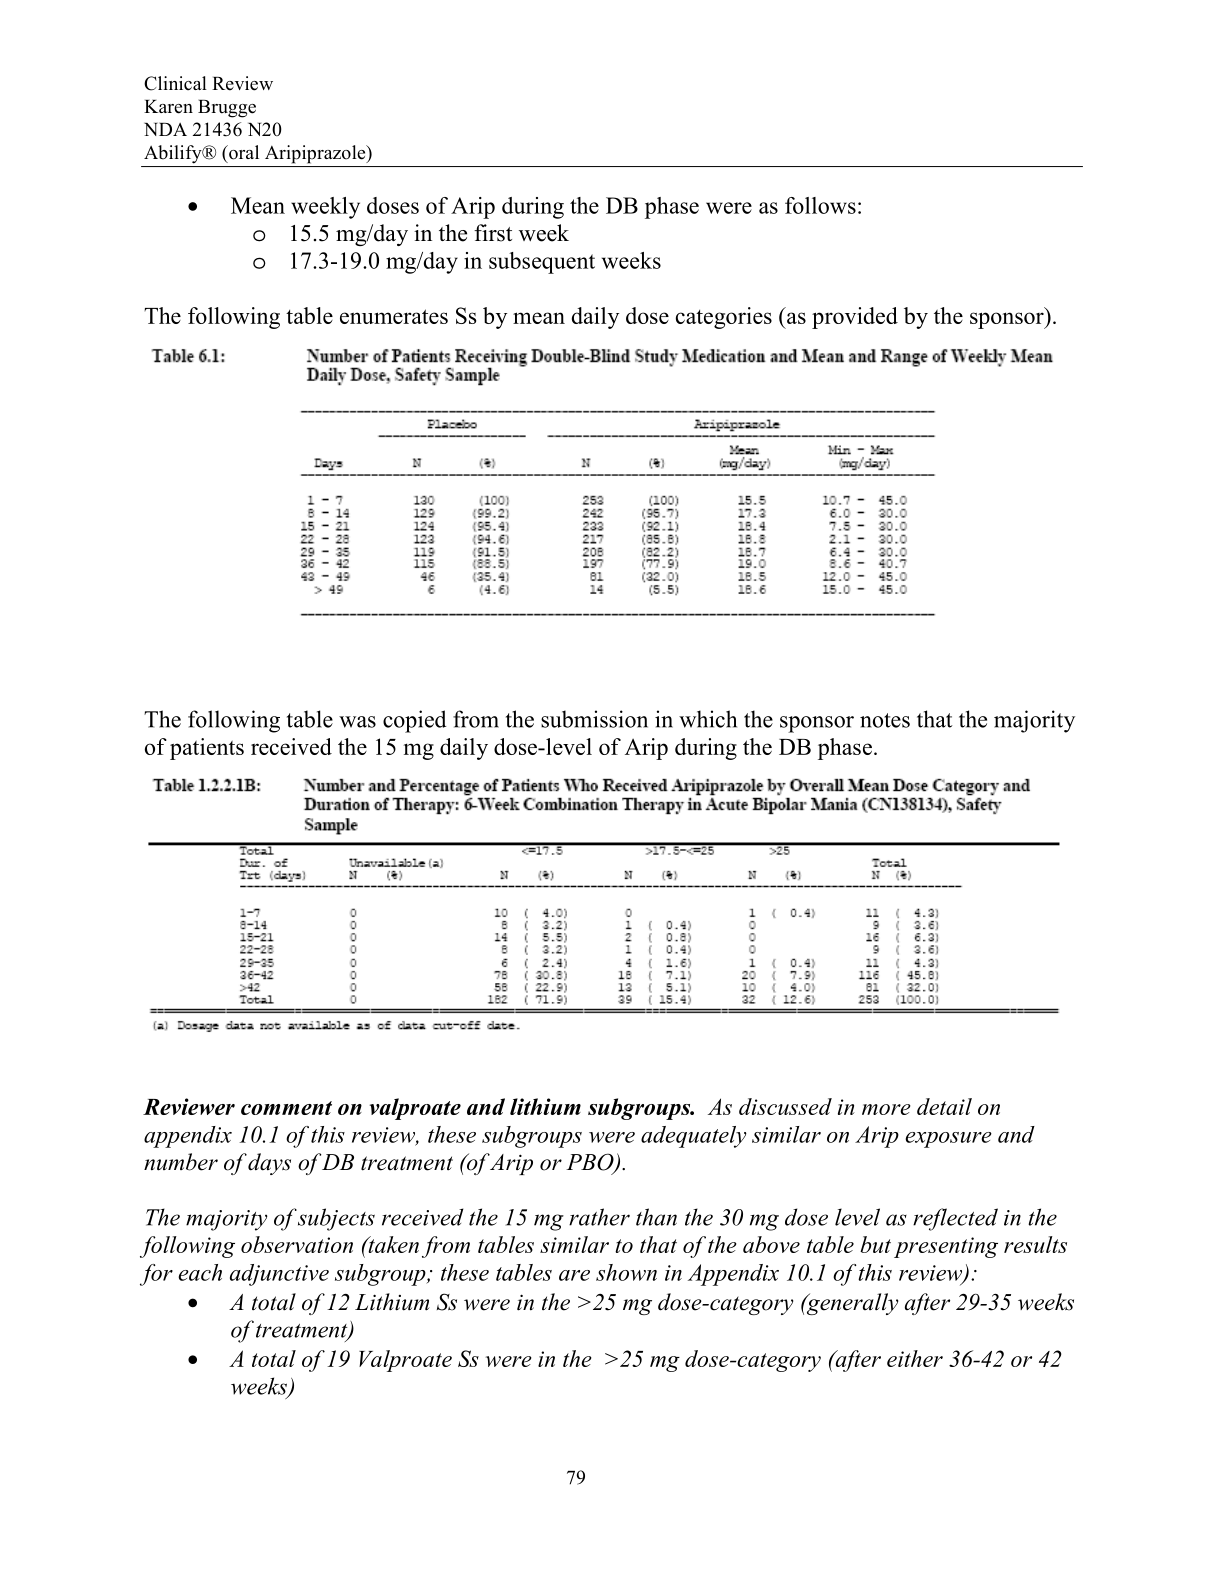partial_lined_merged_cells: (145, 841, 1065, 1014), (297, 409, 935, 618)
